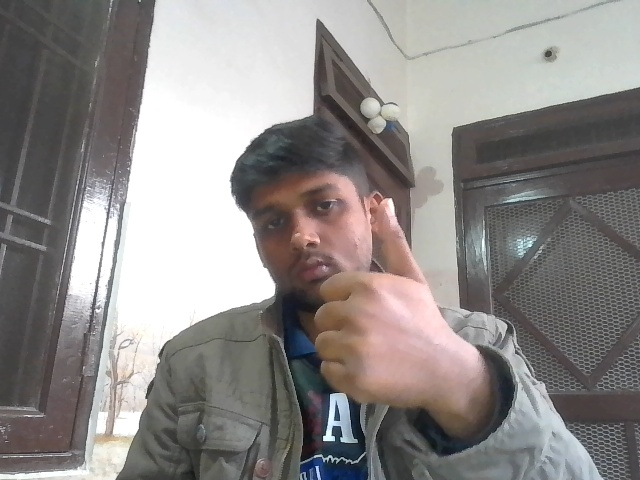BestOfLuck: (310, 196, 439, 414)
